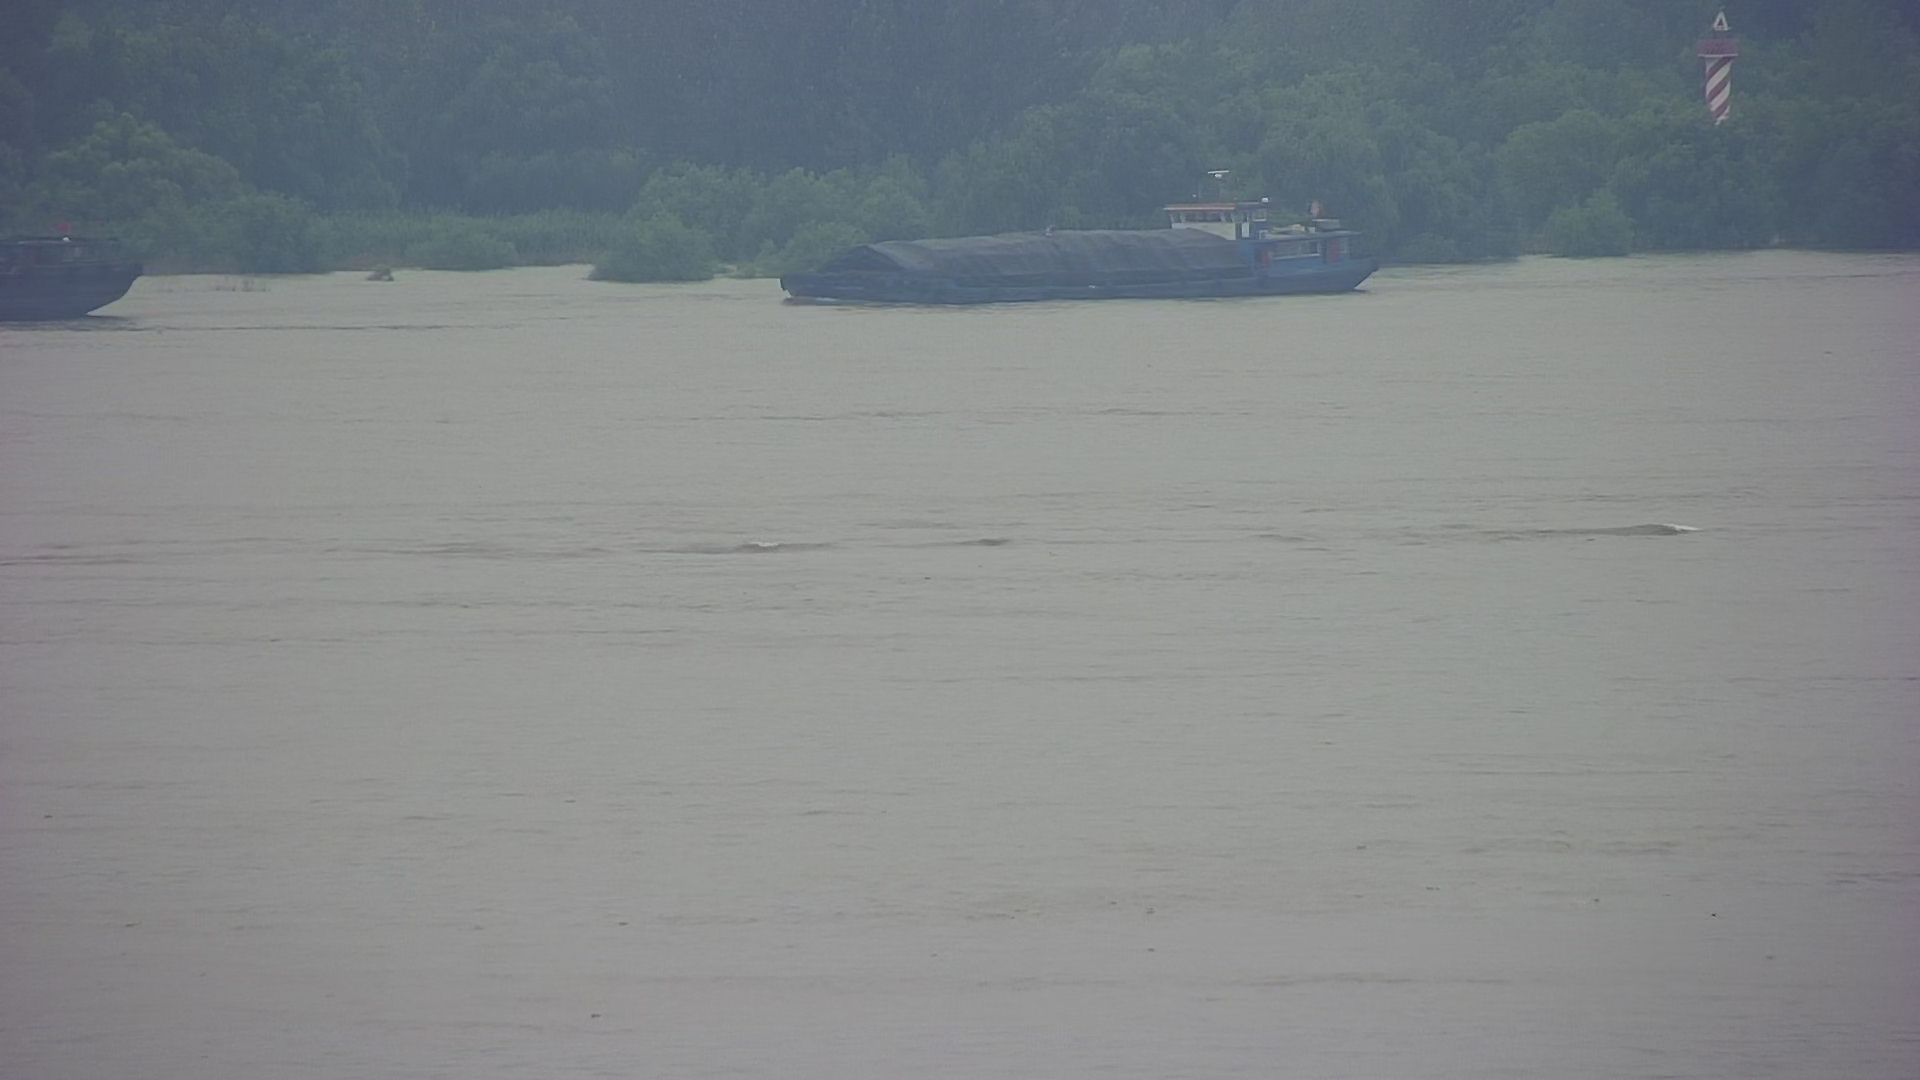ship: (765, 170, 1391, 315)
